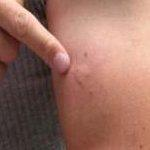Mosquito: (72, 60, 90, 87)
